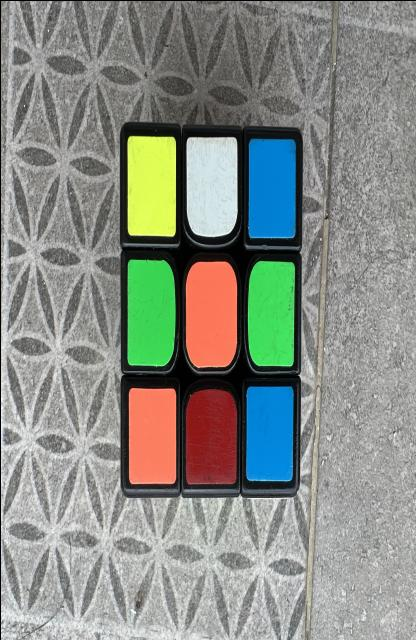Blue: (248, 137, 295, 237), (245, 385, 292, 480)
Green: (127, 258, 175, 365), (247, 260, 294, 365)
Orange: (184, 260, 236, 367), (128, 387, 176, 483)
Red: (185, 388, 236, 483)
White: (185, 135, 236, 237)
Yellow: (127, 135, 176, 237)
